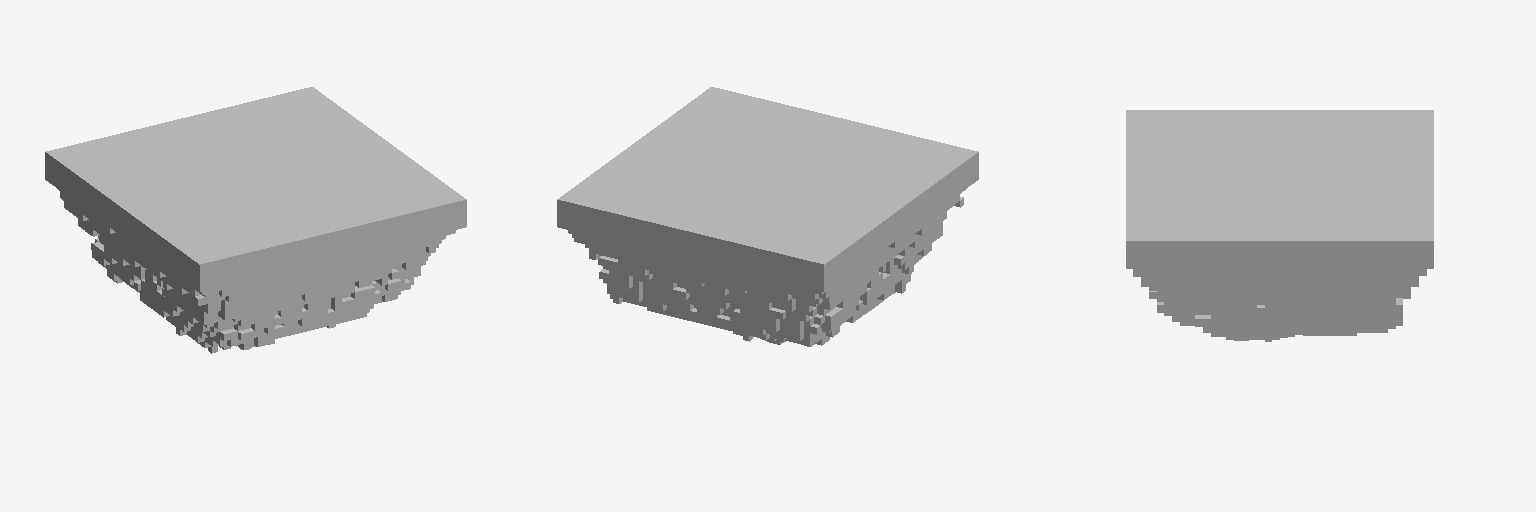
Rendered from Ice.obj.
3 renders of one model, left to right at view 1: azimuth 30°, elevation 25°; view 2: azimuth 150°, elevation 25°; view 3: azimuth 270°, elevation 25°, orthographic.
Visible parts, largest first — view 1: object 1; view 2: object 1; view 3: object 1.
Part boxes in pixels (bbox=[...]): object 1: bbox=[45, 87, 466, 353]; object 1: bbox=[557, 87, 978, 346]; object 1: bbox=[1126, 110, 1433, 341].
Bounding box in the file's own units: 4 × 2.3 × 4.